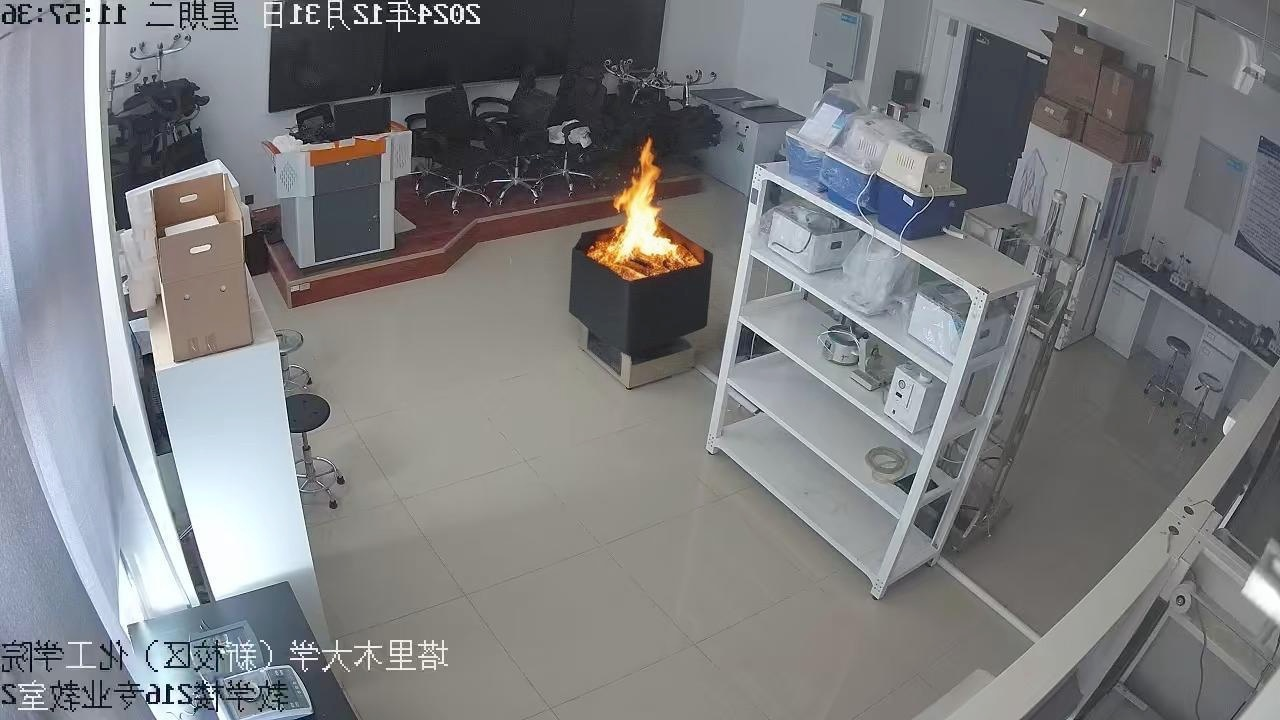fire: (568, 141, 716, 325)
